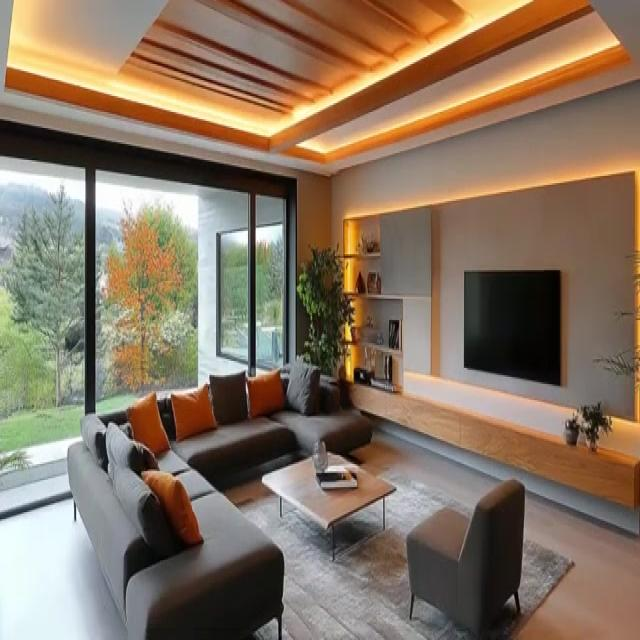obstacle: (66, 361, 372, 638), (406, 478, 525, 638), (341, 206, 431, 395), (261, 448, 396, 562)
